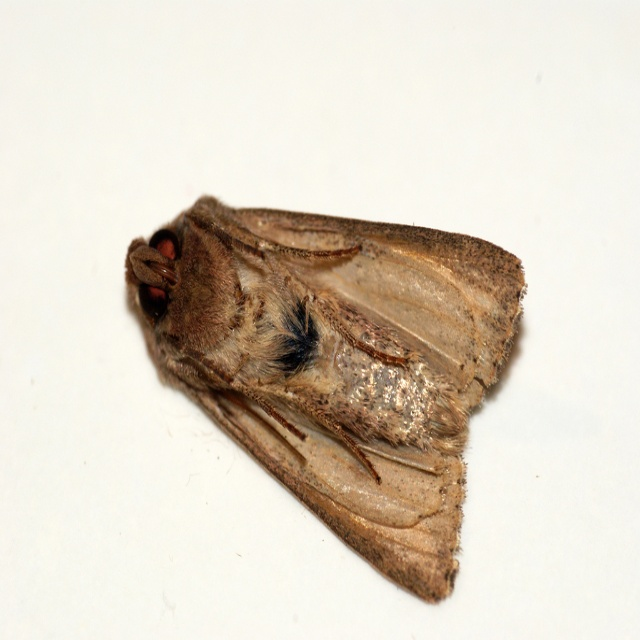Moths and butterflies: (125, 193, 534, 605)
